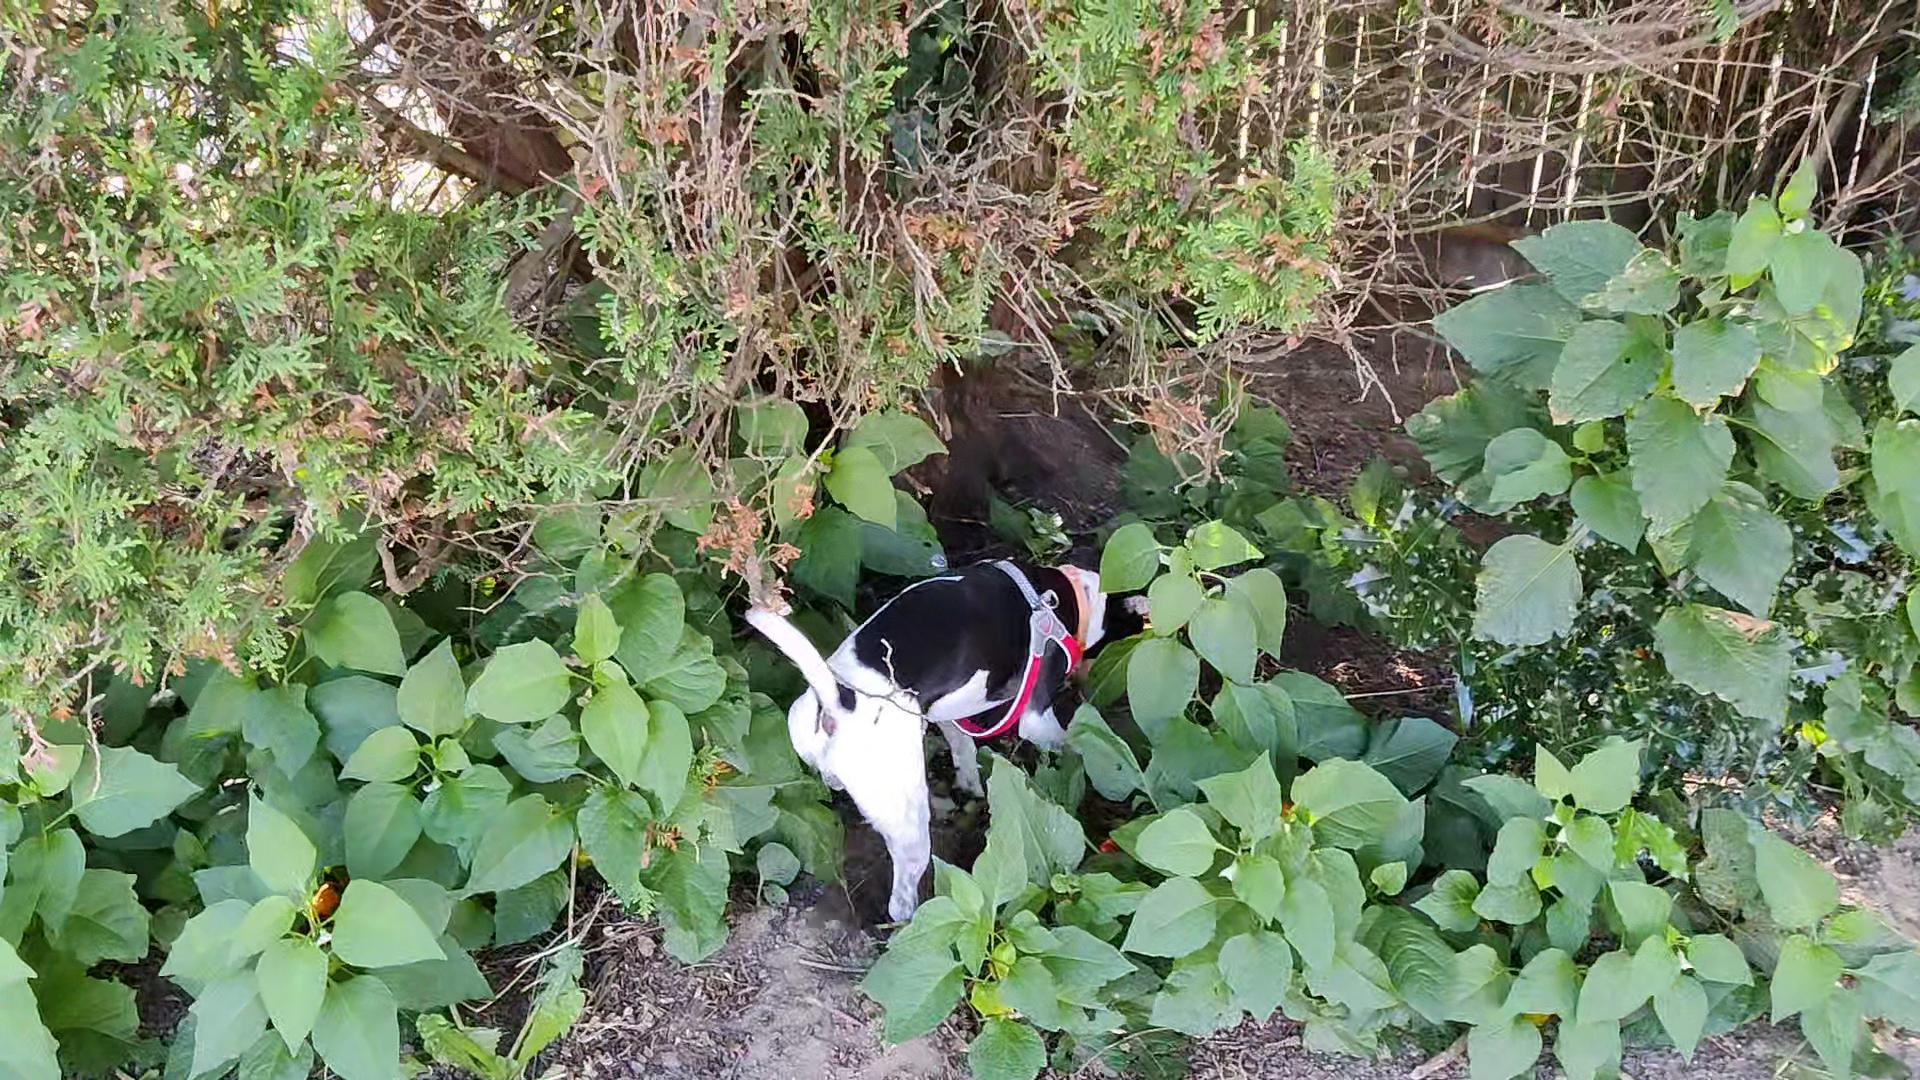Dog: (712, 516, 1180, 948)
